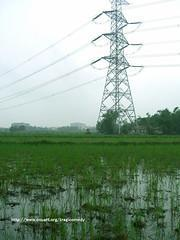power_tower: (91, 0, 146, 138)
